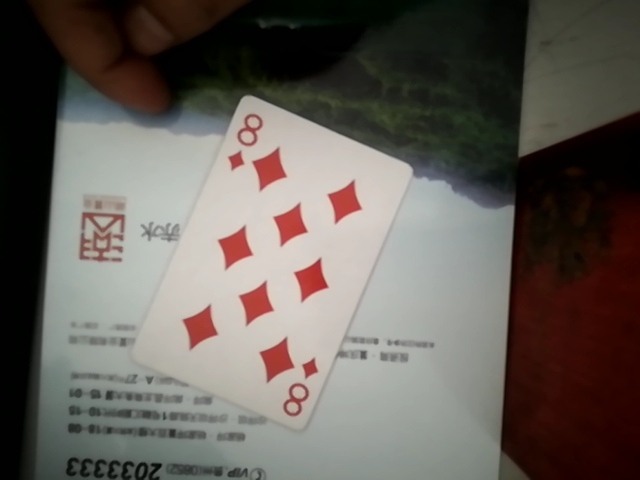fk 8: (135, 97, 406, 432)
